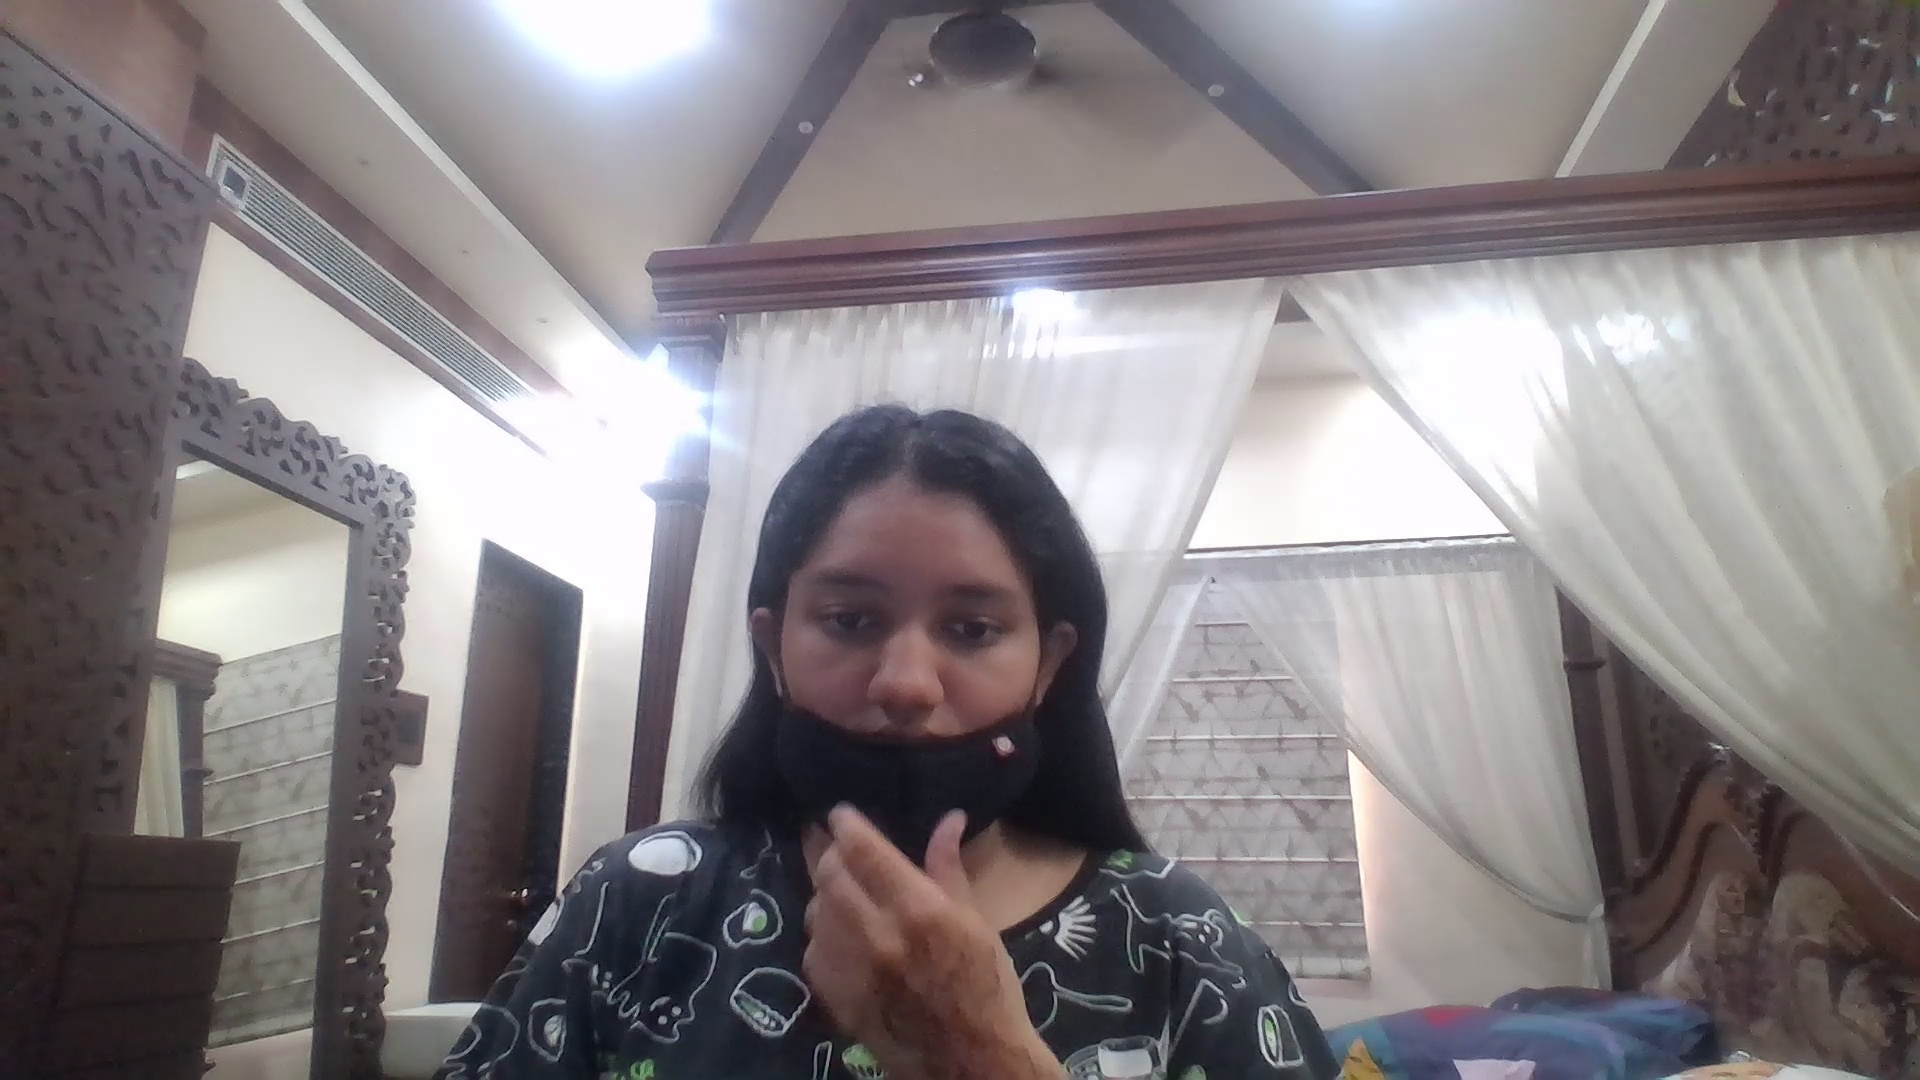Mask: (770, 672, 1045, 891)
